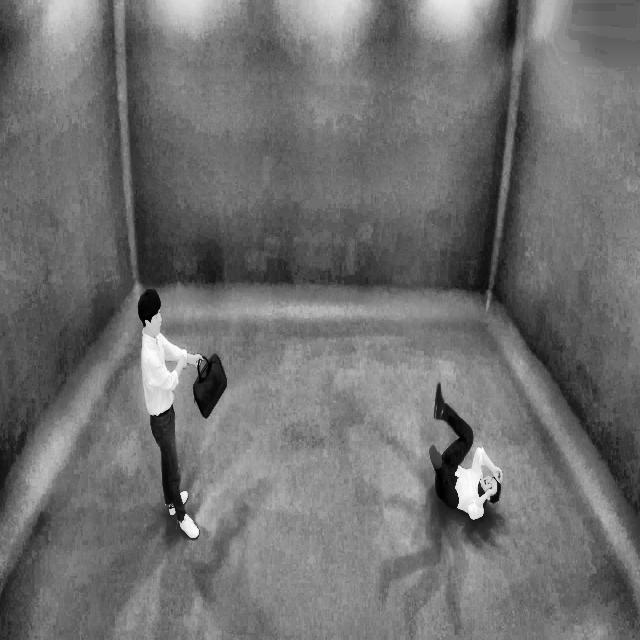assult: (136, 282, 519, 538), (427, 379, 512, 521)
